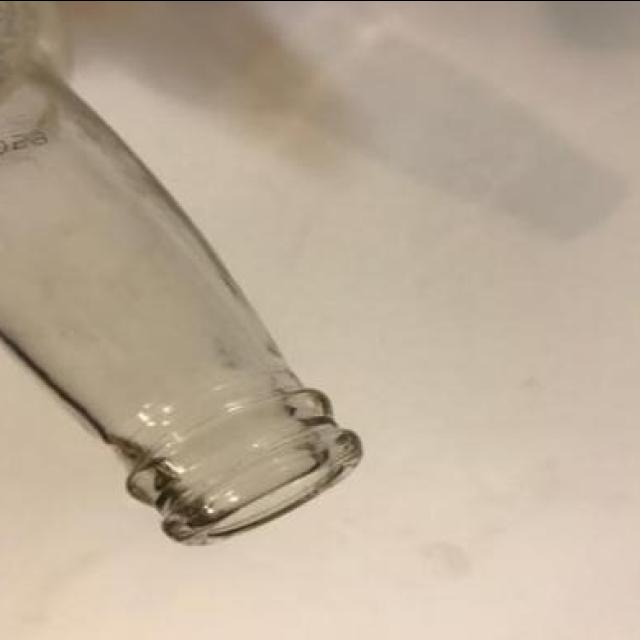kaca: (0, 0, 365, 545)
